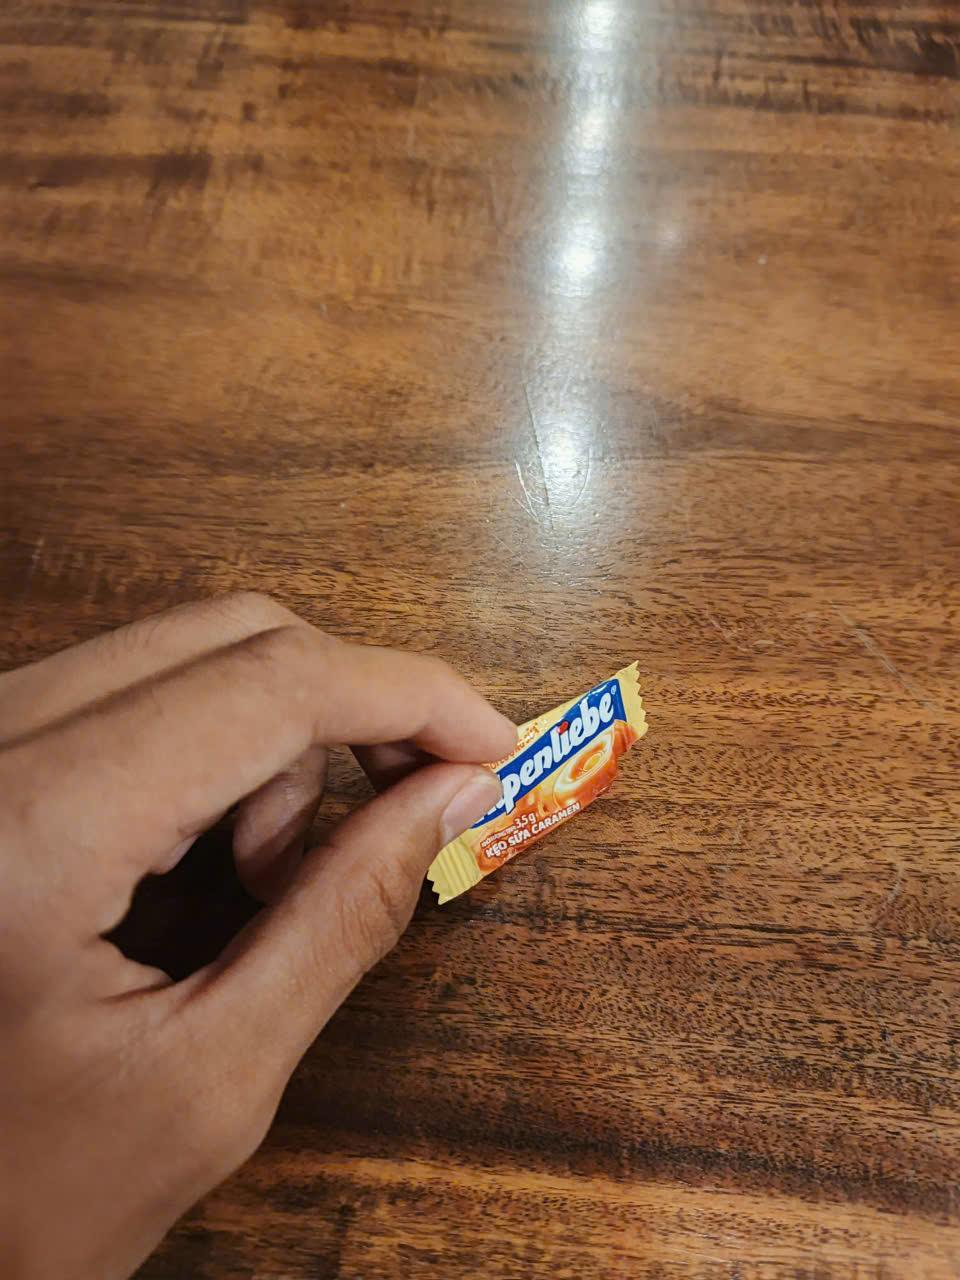Con lai: (410, 663, 654, 905)
